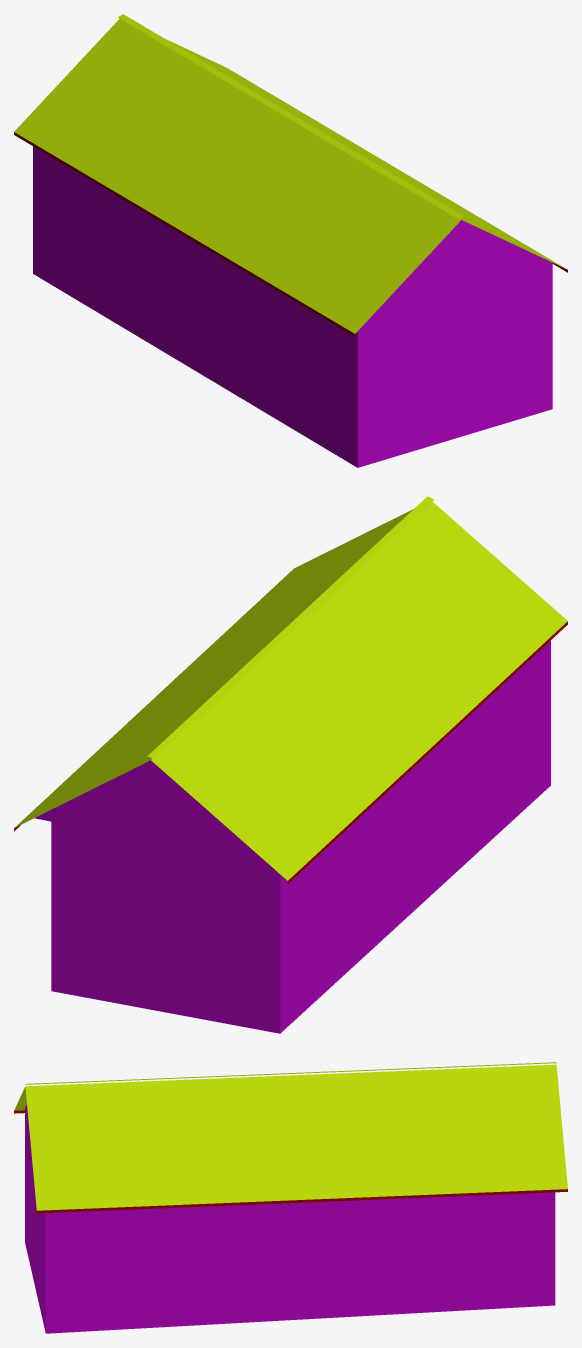
Rendered from dol_12.glb.
The picture shows the model from 3 angles, top to bottom: view 1: azimuth 30°, elevation 25°; view 2: azimuth 150°, elevation 25°; view 3: azimuth 270°, elevation 25°; orthographic projection. The views are drawn at different scales.
Visible parts, largest first — view 1: dol_12; view 2: dol_12; view 3: dol_12.
Boxes of the visible parts, <box> form: dol_12: <box>14,14,567,467</box>; dol_12: <box>14,496,567,1033</box>; dol_12: <box>14,1062,567,1333</box>.
Bounding box in the file's own units: 11.46 × 9.01 × 22.08.
